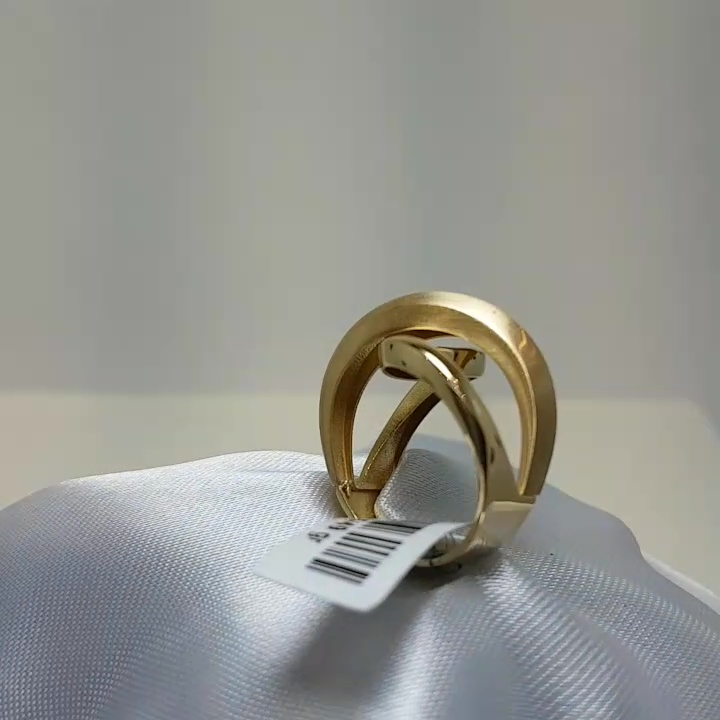Ring 3: (244, 260, 609, 578)
